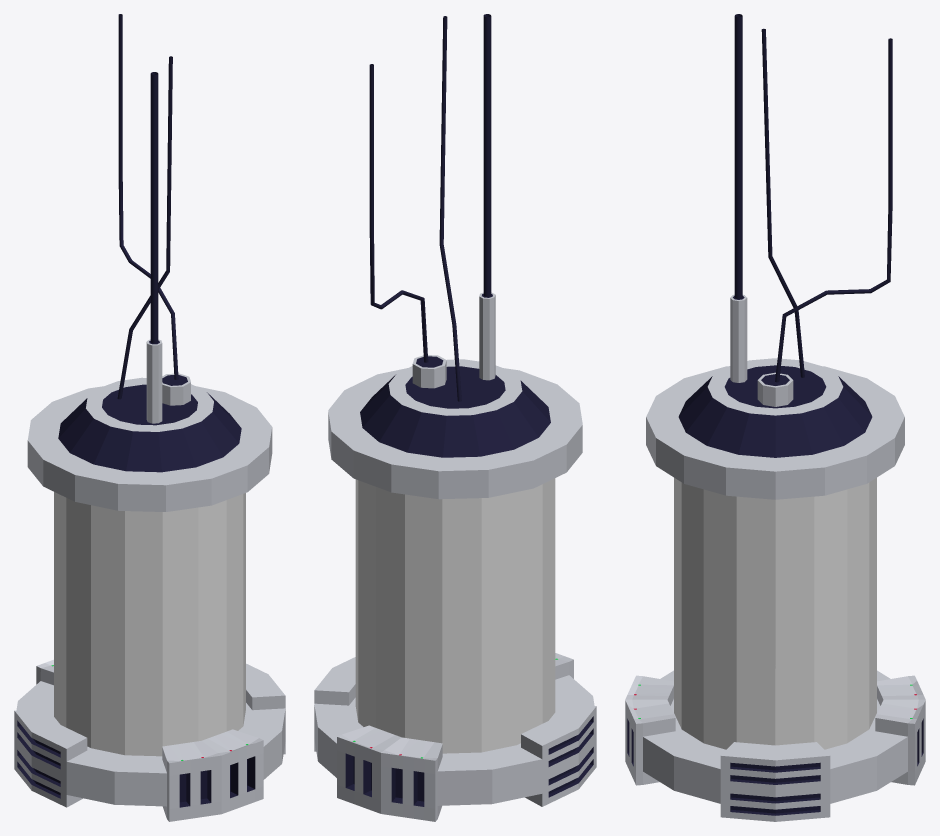
The model's file is Goo.fbx.
3 views of the same model, side by side, from view 1: azimuth 30°, elevation 25°; view 2: azimuth 150°, elevation 25°; view 3: azimuth 270°, elevation 25° (orthographic). The views are drawn at different scales.
Parts seen in each view (by area): view 1: Cylinder.003, Cylinder.002, Cylinder, NurbsCurve, Cylinder.005; view 2: Cylinder.003, Cylinder.002, Cylinder, NurbsCurve, Cylinder.005; view 3: Cylinder.003, Cylinder.002, Cylinder, NurbsCurve, Cylinder.005.
Boxes of the visible parts, bbox=[...] form: Cylinder.003: bbox=[54, 492, 245, 756]; Cylinder.002: bbox=[27, 377, 272, 511]; Cylinder: bbox=[14, 659, 285, 821]; NurbsCurve: bbox=[117, 14, 178, 399]; Cylinder.005: bbox=[146, 339, 190, 423]; Cylinder.003: bbox=[355, 478, 555, 753]; Cylinder.002: bbox=[328, 359, 582, 499]; Cylinder: bbox=[314, 653, 596, 821]; NurbsCurve: bbox=[369, 14, 491, 401]; Cylinder.005: bbox=[412, 292, 495, 388]; Cylinder.003: bbox=[674, 477, 876, 749]; Cylinder.002: bbox=[646, 358, 904, 499]; Cylinder: bbox=[625, 670, 925, 821]; NurbsCurve: bbox=[734, 14, 892, 382]; Cylinder.005: bbox=[730, 294, 793, 406].
Bounding box in the file's own units: 398 × 1132 × 417.
